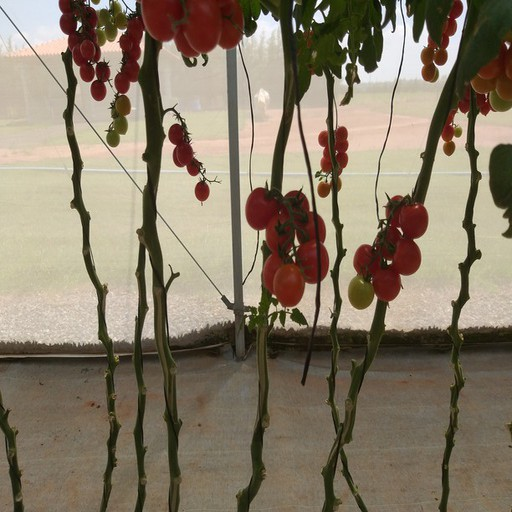mixed tomato bunch: (437, 37, 512, 158)
red tomato bunch: (246, 188, 328, 308), (354, 195, 430, 302), (140, 1, 244, 59), (59, 1, 111, 101), (420, 1, 463, 83), (171, 123, 211, 203), (115, 17, 145, 94), (317, 125, 349, 196)
